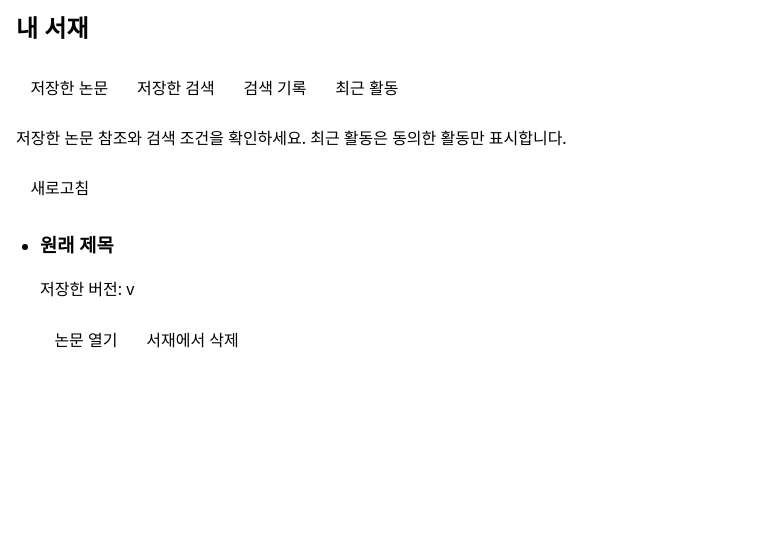
Test: U2 Library controls › cancels a destructive action without a write
This screenshot has width=773, height=548.
What coordinates should you click on to do the following:
click the button with test id "library-remove"
I would click on:
 (192, 340)
Its box is [132,318,253,362].
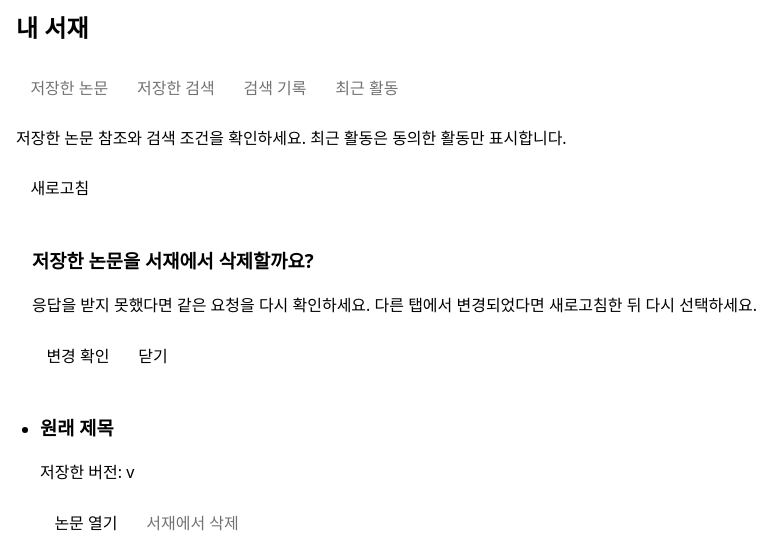
What coordinates should you click on to do the following:
click the button with test id "library-cancel"
I would click on:
 (153, 356)
Its box is [124,334,182,378].
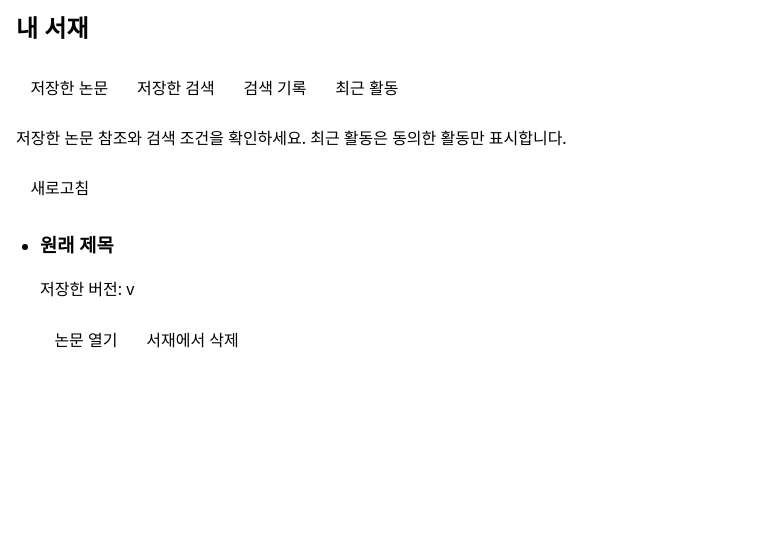
Expected: the element with test id "library-confirmation" is gone
